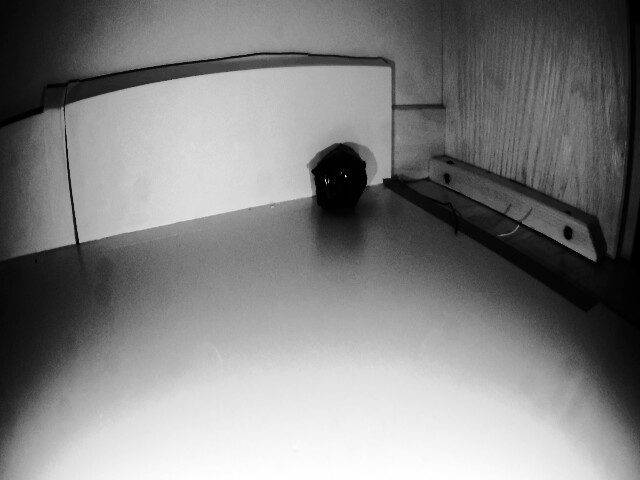silver: (303, 145, 372, 216)
